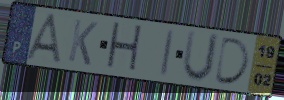A: (22, 12, 66, 67)
D: (212, 35, 252, 87)
H: (103, 20, 144, 76)
I: (158, 28, 177, 80)
K: (66, 17, 100, 68)
U: (180, 28, 223, 85)
